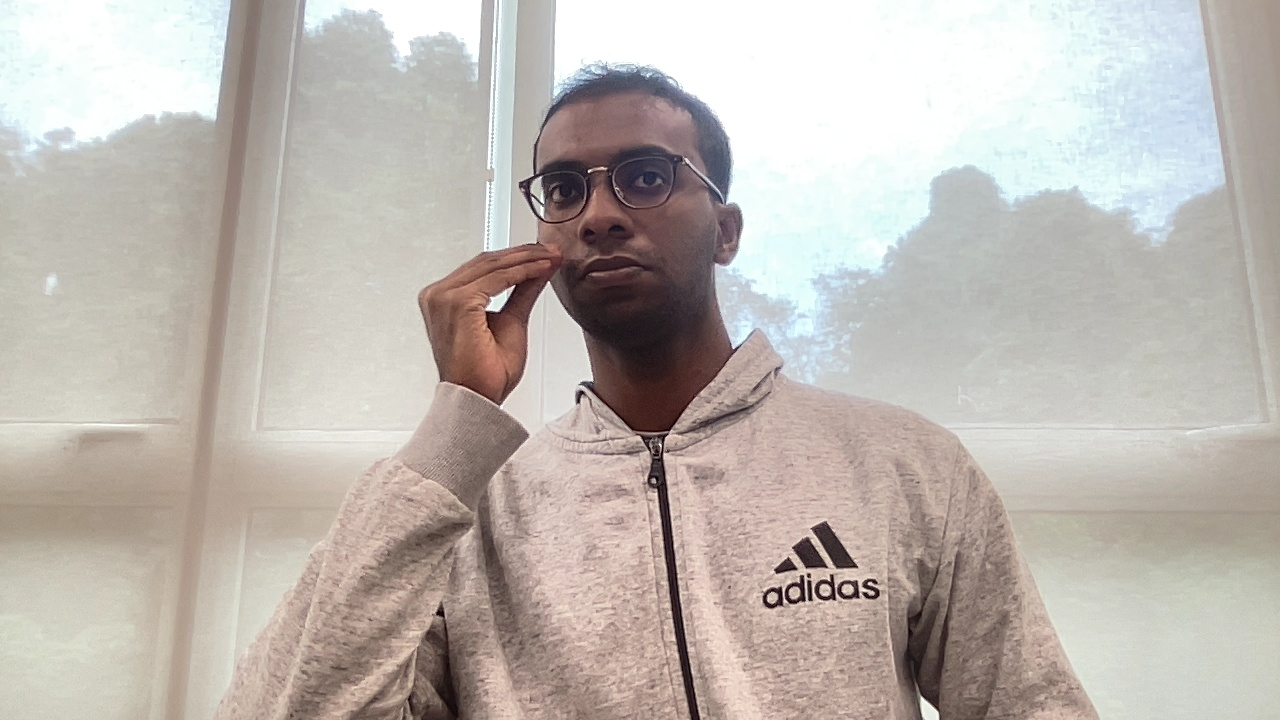eat: (414, 236, 568, 386)
